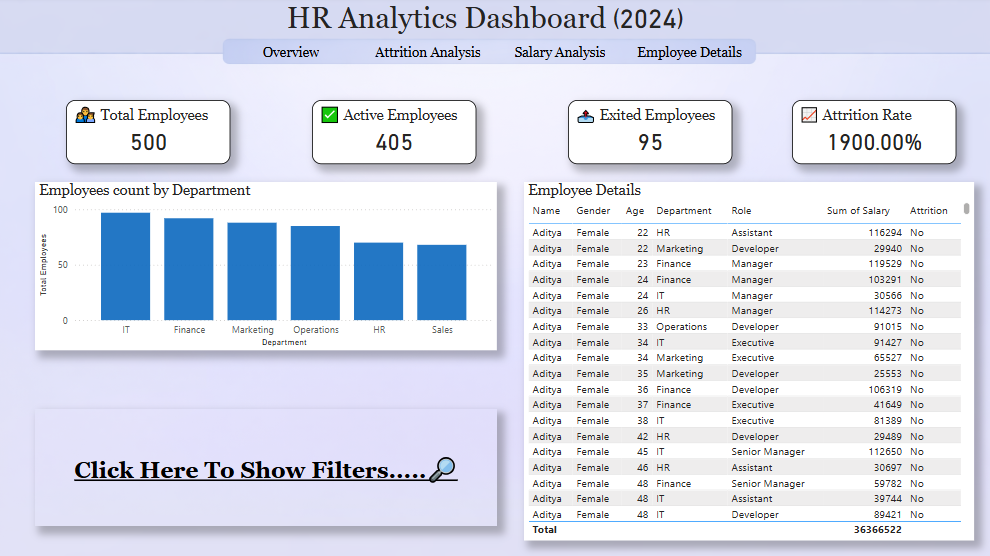

The page's visual inventory and layout, read from the dashboard file:
{"tool":"powerbi","page":{"name":"Employee Details","canvas":[1280,720],"ordinal":3},"visuals":[{"type":"card","title":"👨👦👦 Total Employees","fields":{"Values":["Employees.Total Employees"]},"box":[89.2,131.3,210.4,81.6],"z":0},{"type":"card","title":"✅ Active Employees","fields":{"Values":["Employees.Active Employees"]},"box":[404.1,131.3,210.4,81.6],"z":1000},{"type":"card","title":"📤 Exited Employees","fields":{"Values":["Employees.Exited Employees"]},"box":[730.5,131.3,210.4,81.6],"z":2000},{"type":"card","title":"📈 Attrition Rate","fields":{"Values":["Employees.Attrition Rate (%)"]},"box":[1017.4,131.3,210.4,81.6],"z":3000},{"type":"clusteredColumnChart","title":"Employees count by Department","fields":{"Category":["Employees.Department"],"Y":["Employees.Total Employees"]},"box":[49.7,235.9,590.3,215.5],"z":4000},{"type":"tableEx","title":"Employee Details","fields":{"Values":["Employees.Name","Employees.Gender","Employees.Age","Employees.Department","Employees.Role","Sum(Employees.Salary)","Employees.Attrition"]},"box":[674.4,235.9,575,457.7],"z":5000},{"type":"textbox","box":[0,0,1249.4,53.5],"z":6000},{"type":"shape","box":[464.1,53.5,175.9,34.4],"z":7000},{"type":"shape","box":[288.1,53.5,175.9,34.4],"z":8000},{"type":"shape","box":[800.6,53.5,169.6,34.4],"z":9000},{"type":"shape","box":[640,53.5,160.6,34.4],"z":10000},{"type":"shape","box":[49.7,526.5,590.3,150.4],"z":12000}]}

Visuals, with their boxes in screenshot pixels (x1, y1, x2, y2), scaled from the page's 1280x720 canvas onto the 990x556 screenshot:
"👨👦👦 Total Employees" card: (left=69, top=101, right=232, bottom=164)
"✅ Active Employees" card: (left=313, top=101, right=475, bottom=164)
"📤 Exited Employees" card: (left=565, top=101, right=728, bottom=164)
"📈 Attrition Rate" card: (left=787, top=101, right=950, bottom=164)
"Employees count by Department" clusteredColumnChart: (left=38, top=182, right=495, bottom=349)
"Employee Details" tableEx: (left=522, top=182, right=966, bottom=536)
textbox: (left=0, top=0, right=966, bottom=41)
shape: (left=359, top=41, right=495, bottom=68)
shape: (left=223, top=41, right=359, bottom=68)
shape: (left=619, top=41, right=750, bottom=68)
shape: (left=495, top=41, right=619, bottom=68)
shape: (left=38, top=407, right=495, bottom=523)
